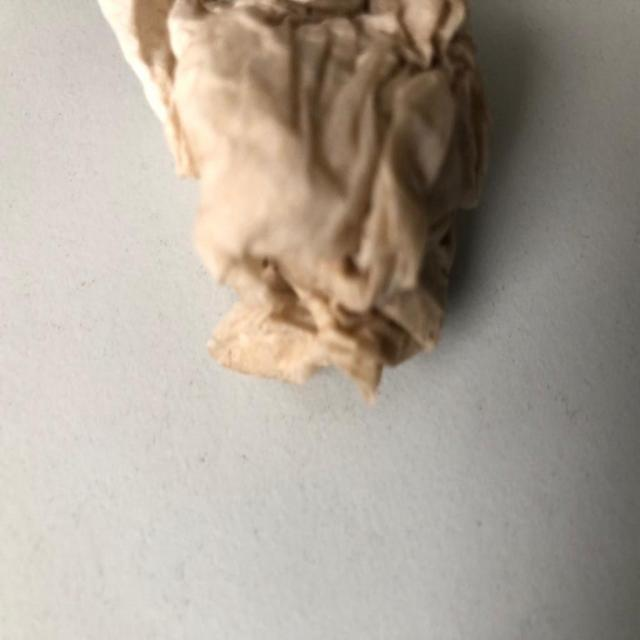kitchen paper: (98, 0, 492, 405)
